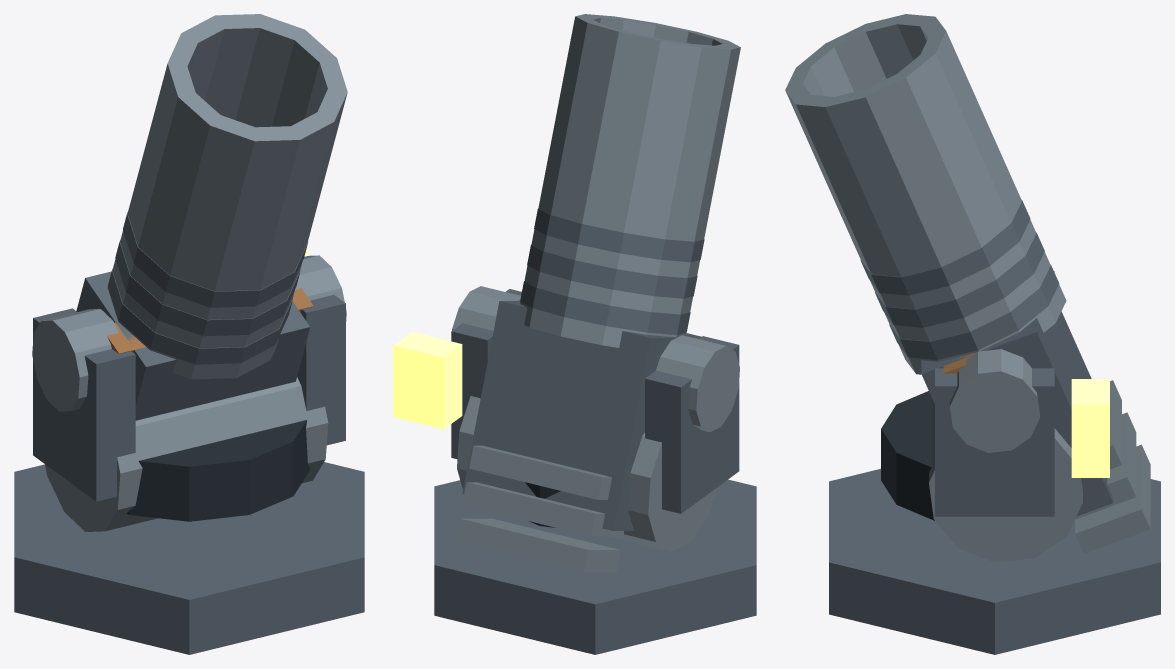
Rendered from mortar_t2_d0.meshopt.glb.
The picture shows the model from 3 angles, left to right: view 1: azimuth 30°, elevation 25°; view 2: azimuth 150°, elevation 25°; view 3: azimuth 270°, elevation 25°; orthographic projection. The views are drawn at different scales.
Parts seen in each view (by area): view 1: RECOIL_ARMOR_GEOMETRY, BASE_ARMOR_GEOMETRY, YAW_ARMOR_GEOMETRY; view 2: RECOIL_ARMOR_GEOMETRY, BASE_ARMOR_GEOMETRY, YAW_ARMOR_GEOMETRY, YAW_SIGNAL_GEOMETRY; view 3: RECOIL_ARMOR_GEOMETRY, BASE_ARMOR_GEOMETRY, YAW_ARMOR_GEOMETRY, YAW_SIGNAL_GEOMETRY.
Boxes of the visible parts, bbox=[...] form: RECOIL_ARMOR_GEOMETRY: bbox=[32, 14, 347, 531]; BASE_ARMOR_GEOMETRY: bbox=[14, 462, 364, 654]; YAW_ARMOR_GEOMETRY: bbox=[33, 295, 345, 521]; RECOIL_ARMOR_GEOMETRY: bbox=[452, 14, 740, 572]; BASE_ARMOR_GEOMETRY: bbox=[434, 479, 756, 654]; YAW_ARMOR_GEOMETRY: bbox=[451, 289, 739, 527]; YAW_SIGNAL_GEOMETRY: bbox=[393, 332, 462, 429]; RECOIL_ARMOR_GEOMETRY: bbox=[785, 14, 1150, 562]; BASE_ARMOR_GEOMETRY: bbox=[829, 469, 1160, 654]; YAW_ARMOR_GEOMETRY: bbox=[881, 271, 1054, 520]; YAW_SIGNAL_GEOMETRY: bbox=[1071, 379, 1109, 477].
Bounding box in the file's own units: 1.6 × 2.5 × 1.57.
